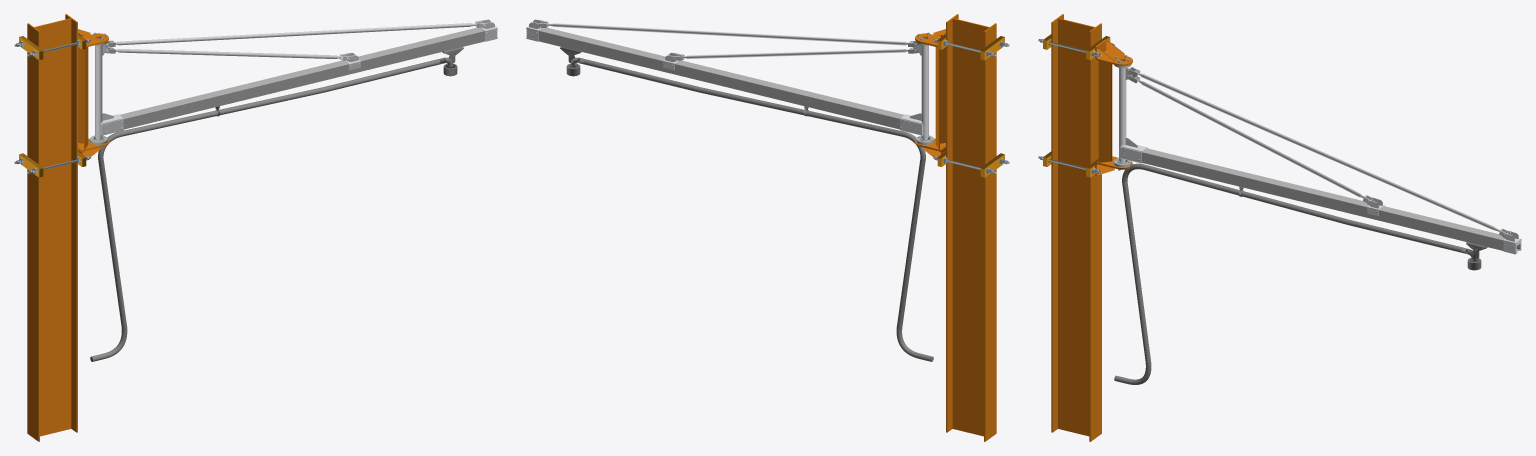
Rendered from aardwolf_all_part_WALL BRACED JIB CRANE 4M 250KG@p1_-200_0_0#p2_4085_0_2748.fbx.
The picture shows the model from 3 angles, left to right: view 1: azimuth 30°, elevation 25°; view 2: azimuth 150°, elevation 25°; view 3: azimuth 330°, elevation 25°; orthographic projection.
Parts seen in each view (by area): view 1: yellow, metal, aardwolf_all_part_obj137; view 2: yellow, metal, aardwolf_all_part_obj137; view 3: yellow, metal, aardwolf_all_part_obj137.
Part boxes in pixels (left/top/right/bottom): yellow: left=19, top=14, right=108, bottom=441; metal: left=14, top=19, right=497, bottom=173; aardwolf_all_part_obj137: left=90, top=59, right=440, bottom=361; yellow: left=915, top=14, right=1004, bottom=441; metal: left=526, top=19, right=1009, bottom=173; aardwolf_all_part_obj137: left=583, top=59, right=933, bottom=361; yellow: left=1043, top=14, right=1132, bottom=441; metal: left=1038, top=39, right=1521, bottom=254; aardwolf_all_part_obj137: left=1114, top=163, right=1462, bottom=384.
Size of the model in its own units: 4830 by 4000 by 360.
